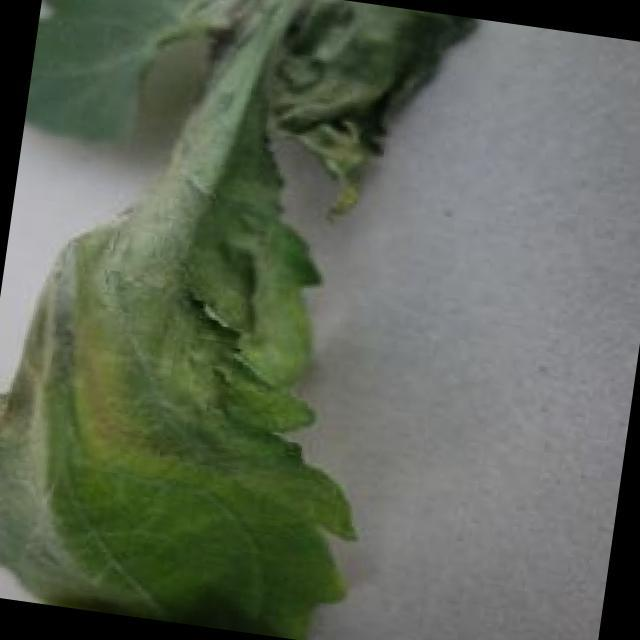Tomato late blight leaf: (0, 0, 487, 640)
